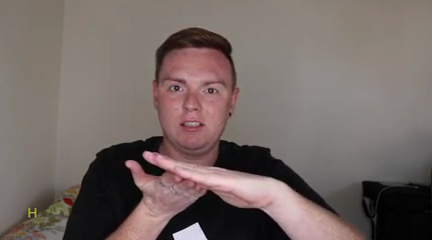H: (123, 149, 278, 224)
